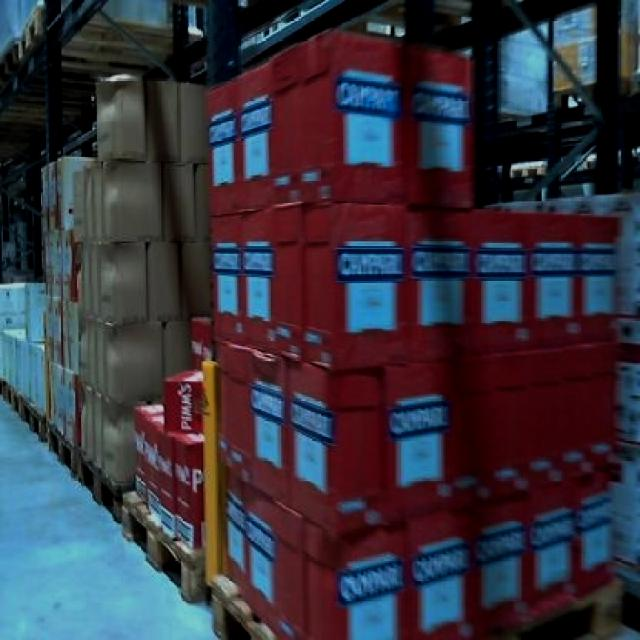pallets: (0, 28, 637, 637), (492, 0, 608, 197), (0, 2, 66, 135)
